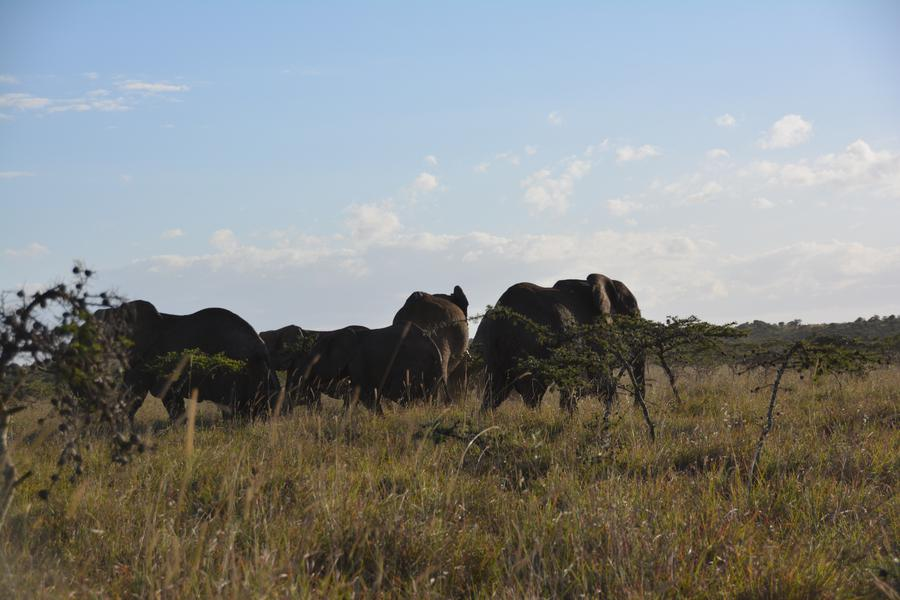elephant: (69, 298, 273, 411), (483, 276, 646, 399), (299, 320, 438, 410), (257, 323, 380, 398), (400, 283, 475, 363)
